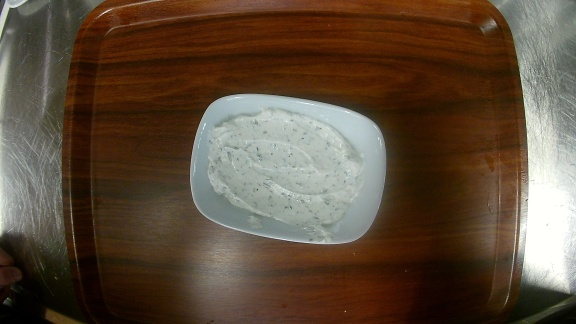haydari: (191, 92, 387, 246)
